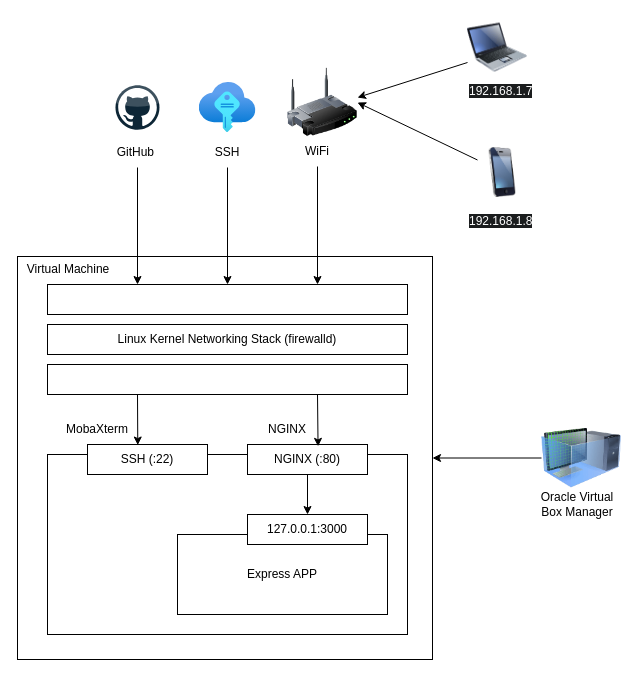
This 639x677 diagram has some shape labels left out. The shapes that lost their labels are listed below. From the top down, each one's box as (x1, y1, x2, y2) in pixels, then its label:
(46, 284, 408, 314): enp0s3 192.168.1.9 Network Interface
(46, 364, 408, 394): Routing Decision
